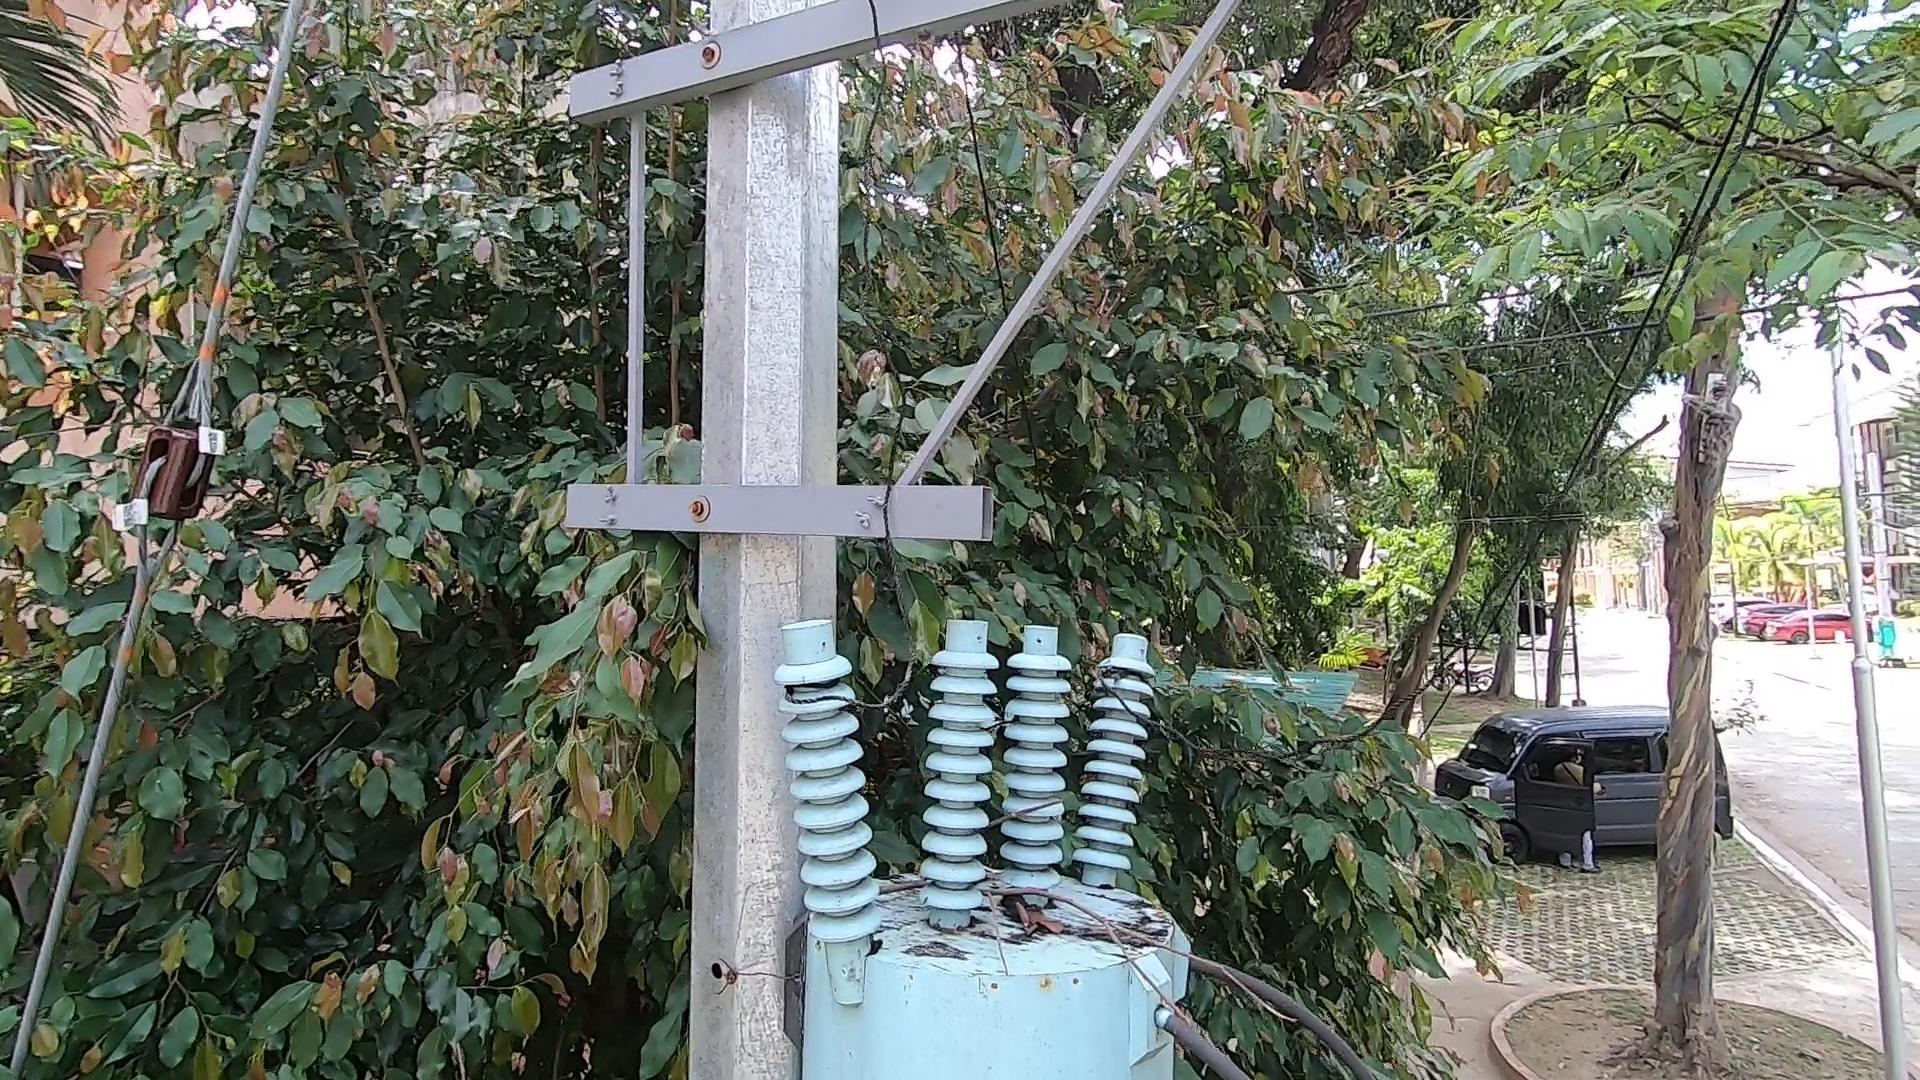leaf: (992, 880, 1088, 960)
tree branch: (866, 851, 1309, 1062)
